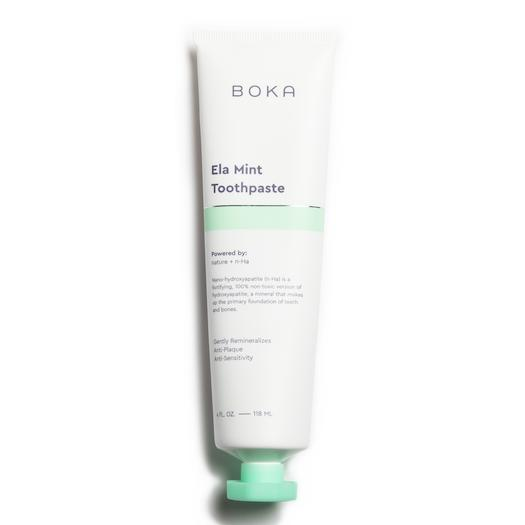toothpaste: (182, 23, 331, 521)
